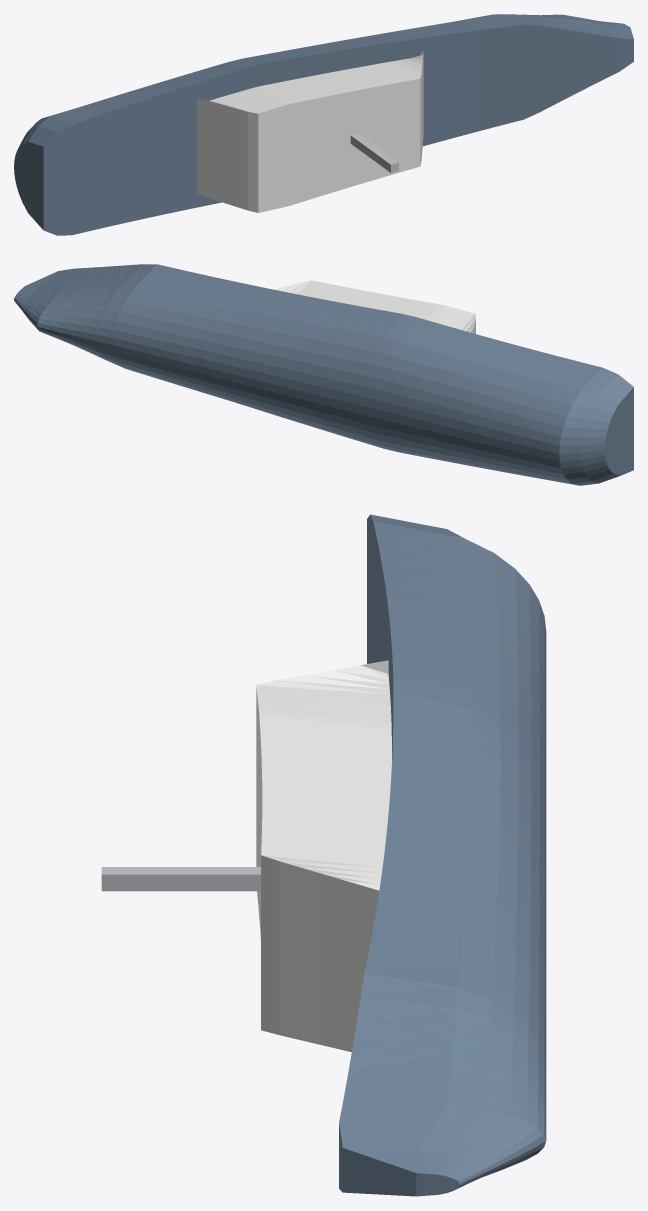
The model's file is pilot-boat-loft-sheered.glb.
3 views of the same model, one above another, from view 1: azimuth 30°, elevation 25°; view 2: azimuth 150°, elevation 25°; view 3: azimuth 270°, elevation 25° (orthographic). The views are drawn at different scales.
Parts seen in each view (by area): view 1: pilot-boat-loft-sheered; view 2: pilot-boat-loft-sheered; view 3: pilot-boat-loft-sheered.
Boxes of the visible parts, x1=… form: pilot-boat-loft-sheered: x1=14, y1=14, x2=633, y2=235; pilot-boat-loft-sheered: x1=14, y1=264, x2=633, y2=485; pilot-boat-loft-sheered: x1=101, y1=514, x2=546, y2=1196.
Size of the model in its own units: 1.81 by 0.3755 by 0.5839.
